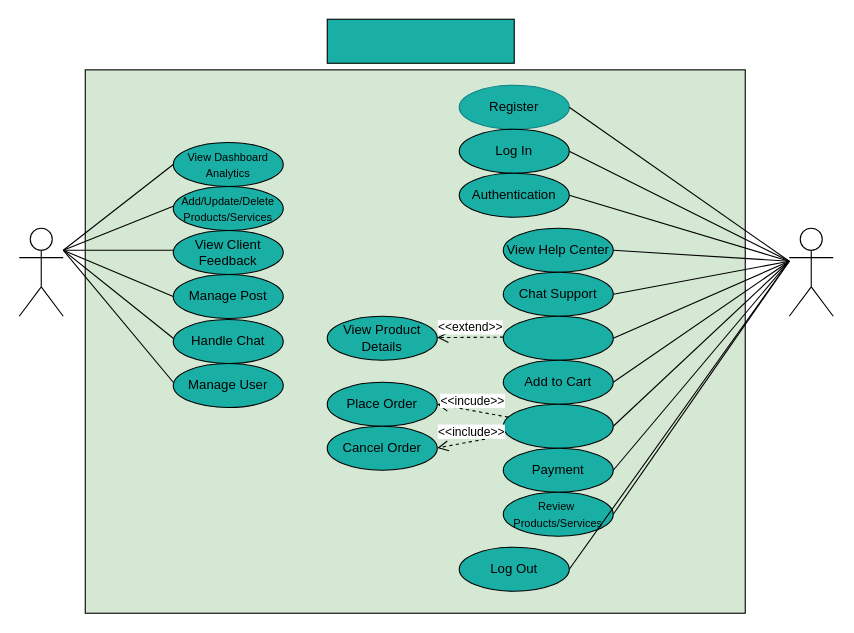
The diagram is 854 pixels wide and 633 high, and some of its shapes have lost their labels. The centre of each missing label's shape, as x and y in pixels:
"ADMIN" goes at (40,271).
"Check Out" goes at (557,425).
"CLIENT" goes at (810,271).
"Search Products" goes at (557,337).
"ServeIT Use Case Diagram" goes at (420,40).
